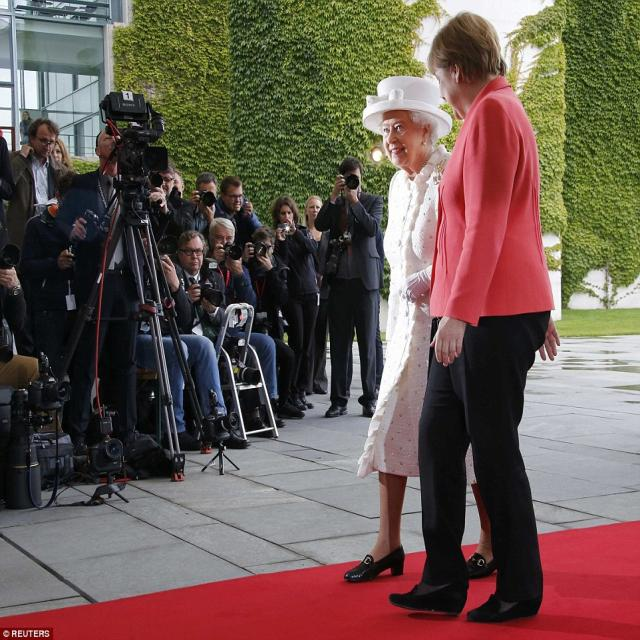body: (385, 6, 564, 630), (340, 73, 498, 584), (126, 234, 252, 454), (0, 125, 67, 522), (53, 126, 138, 432), (311, 154, 390, 420), (266, 191, 322, 414), (241, 225, 304, 419), (5, 116, 72, 250), (138, 157, 200, 265), (173, 228, 230, 339), (300, 193, 331, 396), (204, 214, 260, 317), (210, 175, 264, 252), (185, 171, 240, 245), (366, 213, 386, 411), (161, 168, 193, 209), (18, 109, 36, 150)
